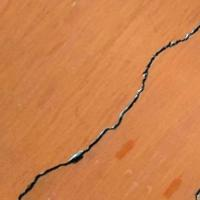crack: (1, 20, 199, 199)
